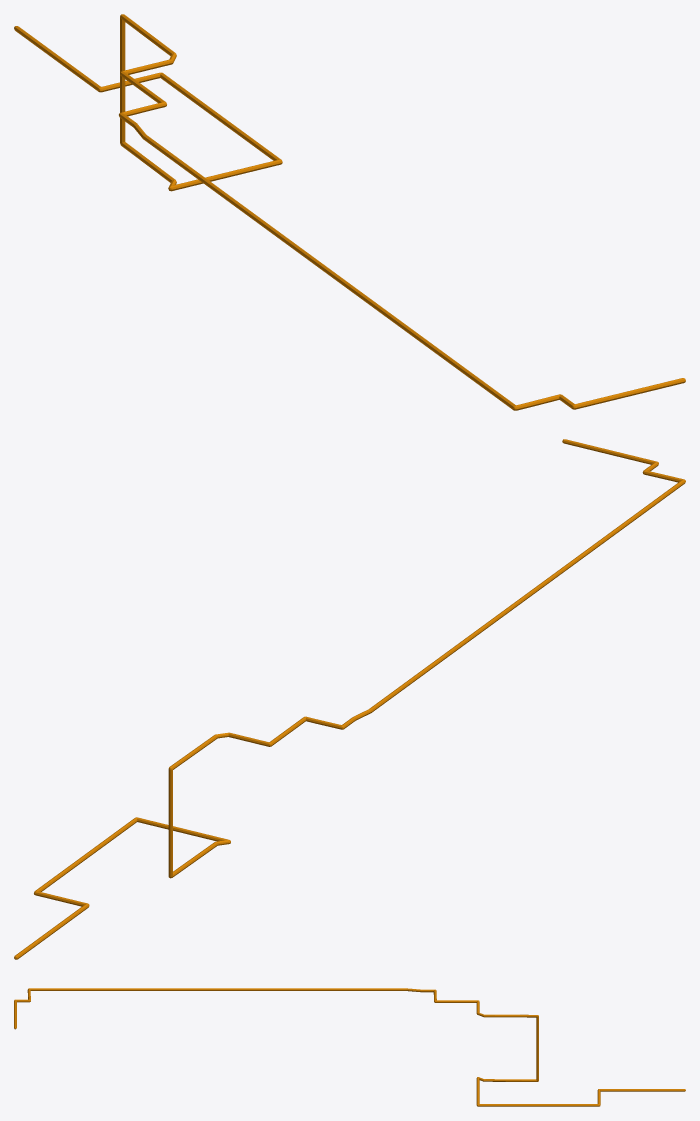
The picture shows the model from 3 angles, top to bottom: view 1: azimuth 30°, elevation 25°; view 2: azimuth 150°, elevation 25°; view 3: azimuth 270°, elevation 25°; orthographic projection. The views are drawn at different scales.
Bounding box in the file's own units: 869 × 520 × 4720.
